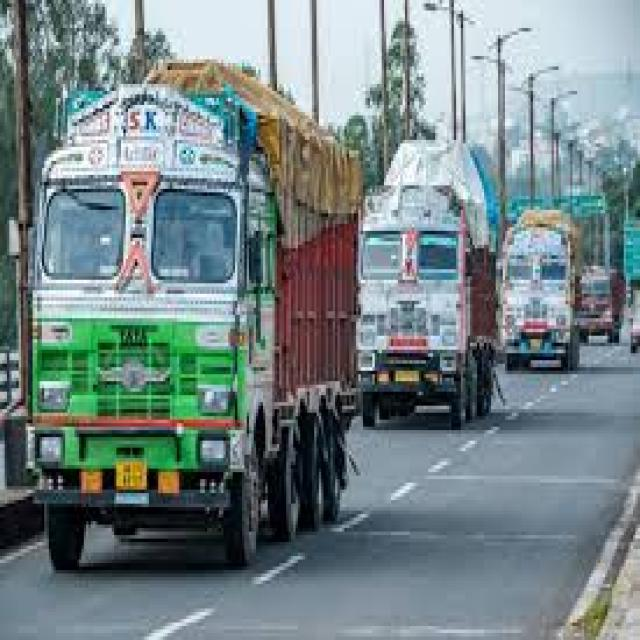Vehicles: (29, 50, 365, 602), (344, 114, 518, 451), (484, 159, 584, 399), (564, 228, 635, 366)
